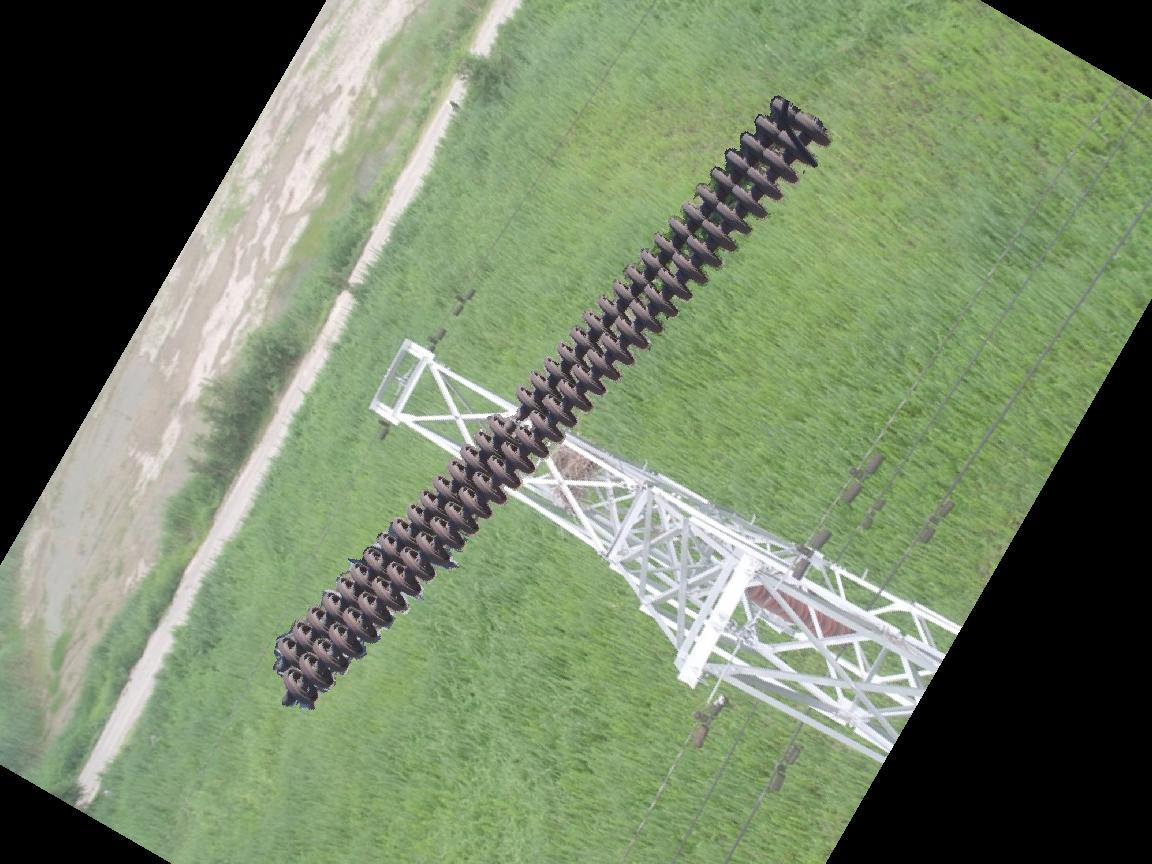insulator: (267, 98, 831, 714), (737, 584, 846, 643)
insulator_stringdrop: (484, 383, 543, 443)
